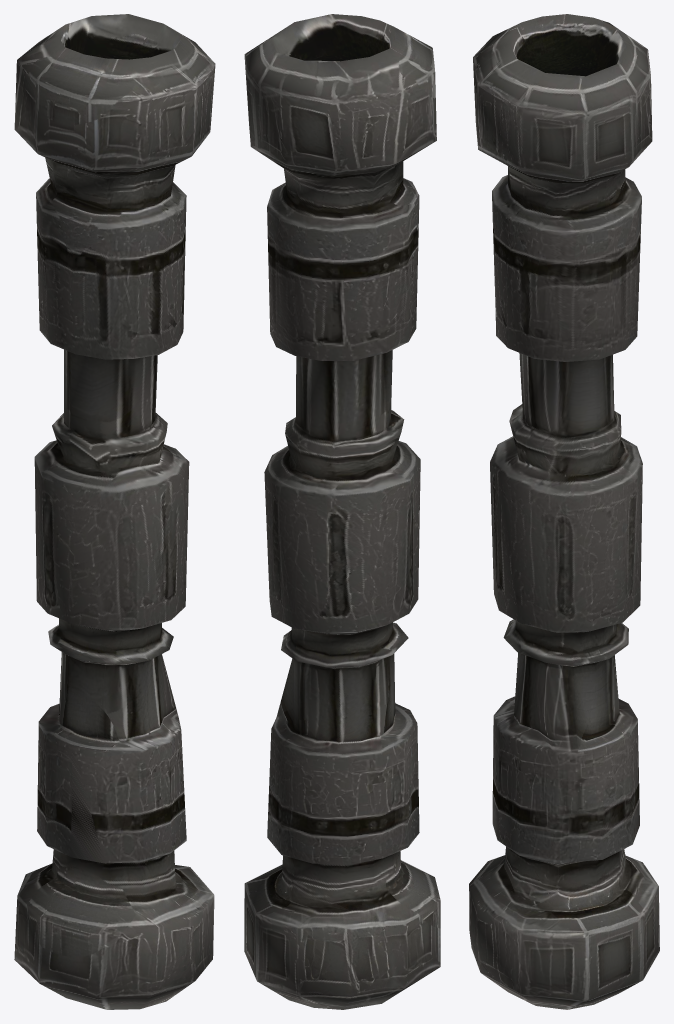
File: cold-iron-v2-rod-b-telescoping.glb
3 renders of one model, left to right at view 1: azimuth 30°, elevation 25°; view 2: azimuth 150°, elevation 25°; view 3: azimuth 270°, elevation 25°, orthographic.
Parts seen in each view (by area): view 1: tripo_node_6a2fea32-5cae-4f5a-a9b4-d72b8027ec4d; view 2: tripo_node_6a2fea32-5cae-4f5a-a9b4-d72b8027ec4d; view 3: tripo_node_6a2fea32-5cae-4f5a-a9b4-d72b8027ec4d.
Part boxes in pixels (x1,y1,x2,y2): tripo_node_6a2fea32-5cae-4f5a-a9b4-d72b8027ec4d: (14,14,215,1009); tripo_node_6a2fea32-5cae-4f5a-a9b4-d72b8027ec4d: (244,14,440,1009); tripo_node_6a2fea32-5cae-4f5a-a9b4-d72b8027ec4d: (469,14,659,1009).
Bounding box in the file's own units: 0.2291 × 1.19 × 0.2167.
Materials: 1 (1 with a texture image).
